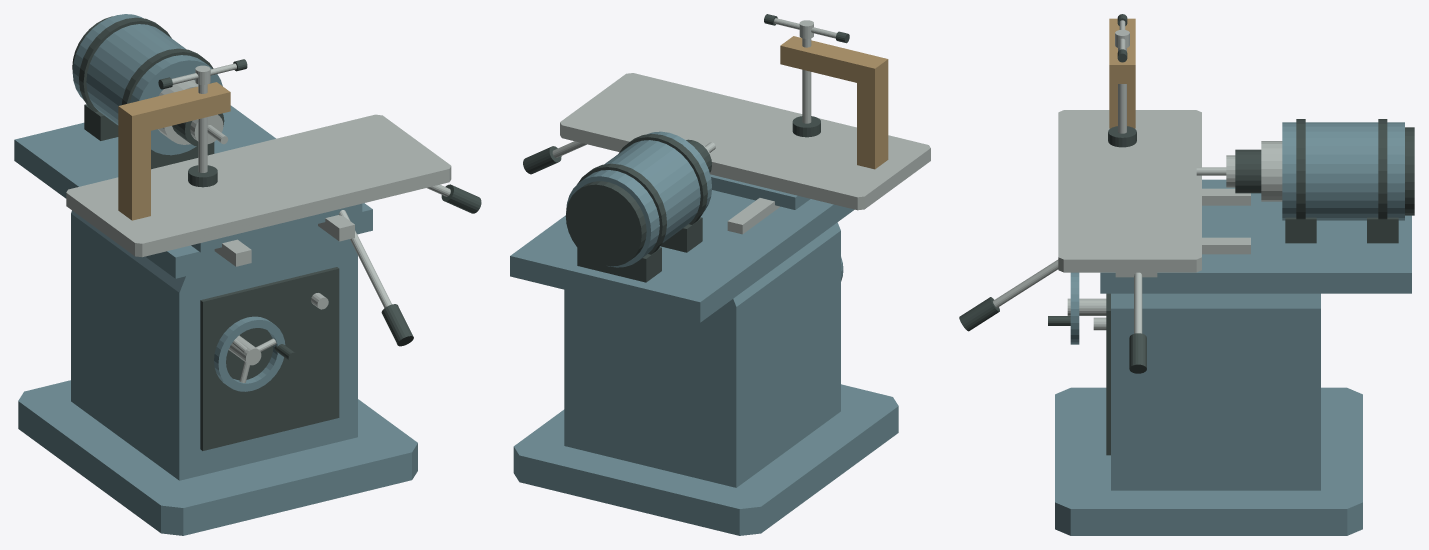
3 renders of one model, left to right at view 1: azimuth 30°, elevation 25°; view 2: azimuth 150°, elevation 25°; view 3: azimuth 270°, elevation 25°, orthographic. The views are drawn at different scales.
Visible parts, largest first — view 1: WholeSquatPedestalCabinet, WholeBroadEmptyWorkTable, WholeBroadGroundSole, WholePlainFrontCabinetPanel, WholeUpperMachineSupportDeck, WholeLowRearHorizontalMotorCase, WholeRaisedSideHoldDownFrame, WholeLowerHeightWheelOpenRim, WholeForeAftTableSaddle, WholeRearMotorCasingBand1, WholeRearMotorCasingBand0, WholeRearMotorSaddle1 (+9 smaller); view 2: WholeSquatPedestalCabinet, WholeBroadEmptyWorkTable, WholeBroadGroundSole, WholeUpperMachineSupportDeck, WholeLowRearHorizontalMotorCase, WholeRaisedSideHoldDownFrame, WholeRearMotorEndCap, WholeForeAftTableSaddle, WholeRearMotorSaddle1, WholeRearMotorCasingBand1, WholeRearMotorCasingBand0, WholeLongitudinalLowGuide0 (+4 smaller); view 3: WholeSquatPedestalCabinet, WholeBroadGroundSole, WholeBroadEmptyWorkTable, WholeUpperMachineSupportDeck, WholeLowRearHorizontalMotorCase, WholeRaisedSideHoldDownFrame, WholeFrontMotorBearingNose, WholeSteppedHorizontalChuck, WholeRearMotorCasingBand0, WholeRearMotorCasingBand1, WholeRearMotorEndCap, WholeLongitudinalLowGuide1 (+10 smaller).
Part boxes in pixels (left/top/right/bottom): WholeSquatPedestalCabinet: left=71, top=210, right=357, bottom=480; WholeBroadEmptyWorkTable: left=66, top=114, right=451, bottom=257; WholeBroadGroundSole: left=18, top=380, right=417, bottom=535; WholePlainFrontCabinetPanel: left=200, top=267, right=339, bottom=450; WholeUpperMachineSupportDeck: left=14, top=105, right=372, bottom=278; WholeLowRearHorizontalMotorCase: left=72, top=14, right=222, bottom=155; WholeRaisedSideHoldDownFrame: left=118, top=82, right=230, bottom=220; WholeLowerHeightWheelOpenRim: left=214, top=316, right=285, bottom=391; WholeForeAftTableSaddle: left=191, top=203, right=362, bottom=252; WholeRearMotorCasingBand1: left=79, top=17, right=171, bottom=112; WholeRearMotorCasingBand0: left=122, top=48, right=213, bottom=104; WholeRearMotorSaddle1: left=84, top=104, right=118, bottom=140; WholeSquatPedestalCabinet: left=564, top=222, right=840, bottom=487; WholeBroadEmptyWorkTable: left=560, top=73, right=930, bottom=210; WholeBroadGroundSole: left=513, top=384, right=898, bottom=535; WholeUpperMachineSupportDeck: left=510, top=190, right=854, bottom=322; WholeLowRearHorizontalMotorCase: left=566, top=131, right=711, bottom=267; WholeRaisedSideHoldDownFrame: left=780, top=36, right=888, bottom=169; WholeRearMotorEndCap: left=565, top=181, right=646, bottom=266; WholeForeAftTableSaddle: left=710, top=174, right=810, bottom=209; WholeRearMotorSaddle1: left=577, top=247, right=661, bottom=282; WholeRearMotorCasingBand1: left=577, top=163, right=666, bottom=254; WholeRearMotorCasingBand0: left=618, top=134, right=707, bottom=224; WholeLongitudinalLowGuide0: left=727, top=198, right=779, bottom=234; WholeSquatPedestalCabinet: left=1111, top=293, right=1320, bottom=490; WholeBroadGroundSole: left=1055, top=387, right=1362, bottom=535; WholeBroadEmptyWorkTable: left=1058, top=110, right=1201, bottom=272; WholeUpperMachineSupportDeck: left=1100, top=179, right=1411, bottom=293; WholeLowRearHorizontalMotorCase: left=1282, top=122, right=1404, bottom=220; WholeRaisedSideHoldDownFrame: left=1109, top=18, right=1135, bottom=128; WholeFrontMotorBearingNose: left=1261, top=141, right=1282, bottom=201; WholeSteppedHorizontalChuck: left=1235, top=149, right=1261, bottom=193; WholeRearMotorCasingBand0: left=1296, top=119, right=1305, bottom=219; WholeRearMotorCasingBand1: left=1378, top=119, right=1387, bottom=219; WholeRearMotorEndCap: left=1405, top=127, right=1414, bottom=215; WholeLongitudinalLowGuide1: left=1202, top=237, right=1250, bottom=254.
Size of the model in its own units: 1.22 by 1.31 by 1.3.
